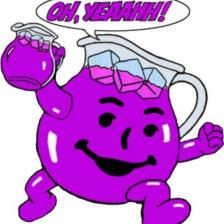purple: (37, 67, 179, 204), (2, 30, 54, 90), (127, 181, 191, 224), (18, 170, 56, 222), (178, 123, 224, 162)
